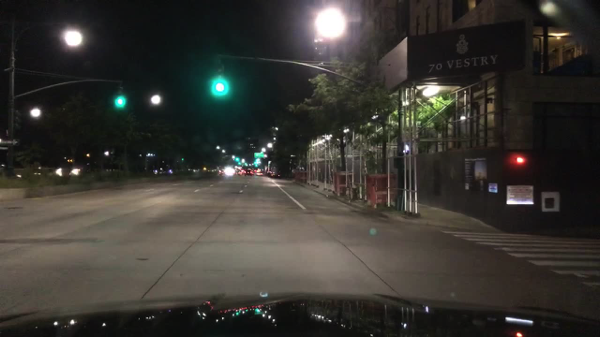car: (244, 169, 252, 177), (218, 169, 225, 176), (255, 170, 263, 176), (236, 170, 241, 176), (241, 169, 246, 174), (251, 168, 256, 172)
traffic light: (212, 63, 229, 97), (114, 88, 127, 108), (512, 154, 525, 167), (235, 157, 241, 162), (254, 162, 258, 167), (238, 162, 242, 166)
traffic sign: (1, 139, 21, 147), (254, 152, 265, 156), (0, 146, 9, 150)
